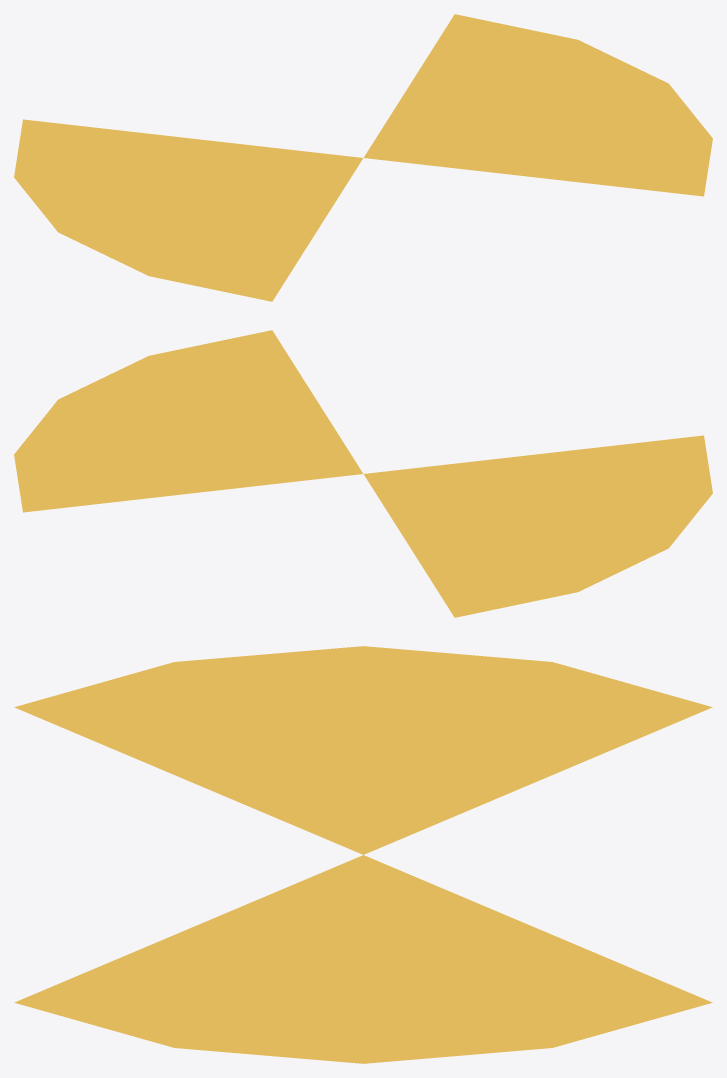
File: marble-center-butterfly-high-col.glb
The picture shows the model from 3 angles, top to bottom: view 1: azimuth 30°, elevation 25°; view 2: azimuth 150°, elevation 25°; view 3: azimuth 270°, elevation 25°; orthographic projection. The views are drawn at different scales.
Parts seen in each view (by area): view 1: marble-center-butterfly-high-col; view 2: marble-center-butterfly-high-col; view 3: marble-center-butterfly-high-col.
Boxes of the visible parts, x1=… form: marble-center-butterfly-high-col: x1=14, y1=14, x2=712, y2=301; marble-center-butterfly-high-col: x1=14, y1=330, x2=712, y2=617; marble-center-butterfly-high-col: x1=14, y1=646, x2=712, y2=1063.
Size of the model in its own units: 0.3939 by 0 by 0.2785.
1 material, 1 textured.
